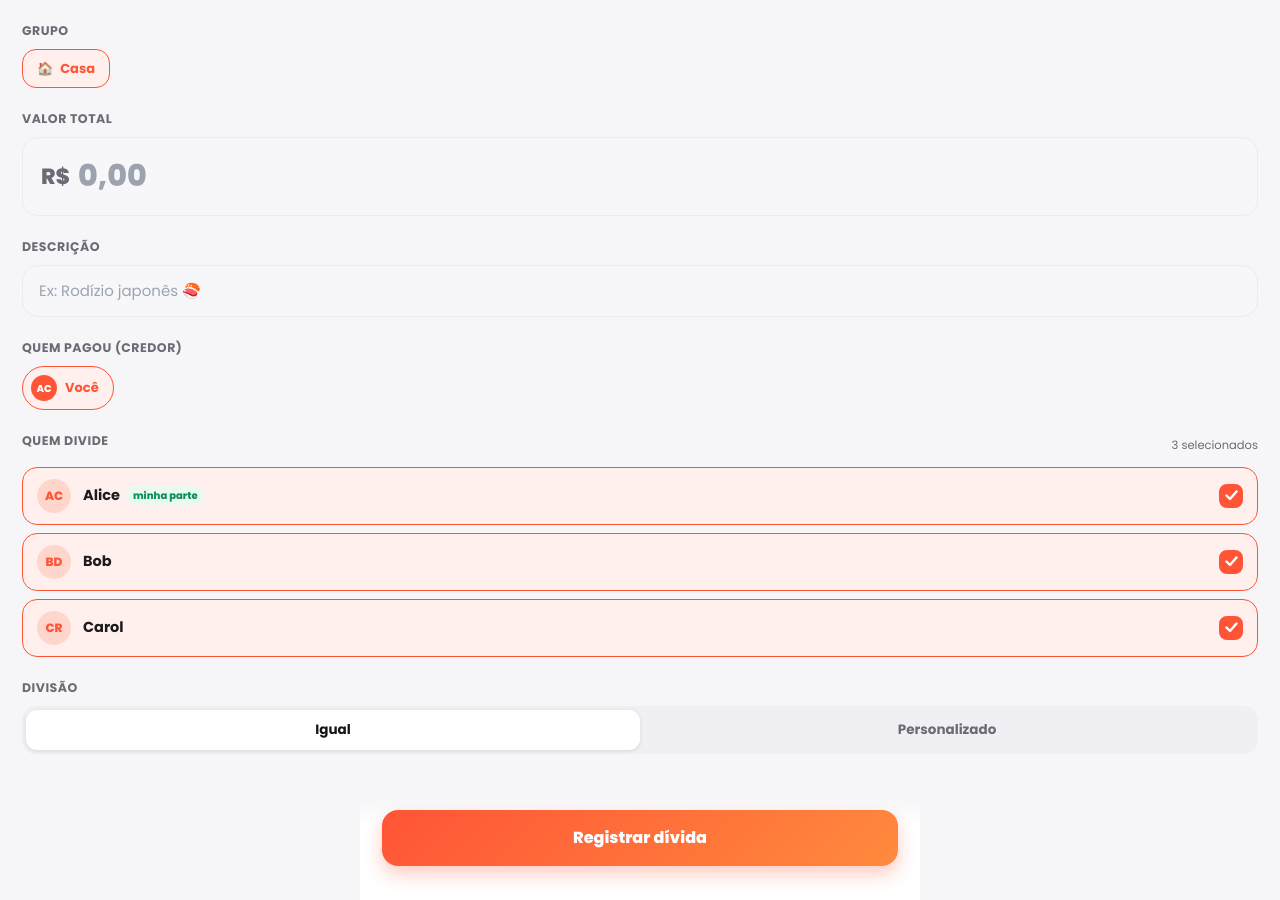
it: DebtForm — divisão no cliente › não permite registrar sem valor
Check: the text "Bob" is shown, box left=83, top=551, right=112, bottom=573
Type "Sem valor" into the field with placeholder "Ex: Rodízio japonês 🍣".
click(640, 291); type("Sem valor")  # box left=22, top=265, right=1258, bottom=317
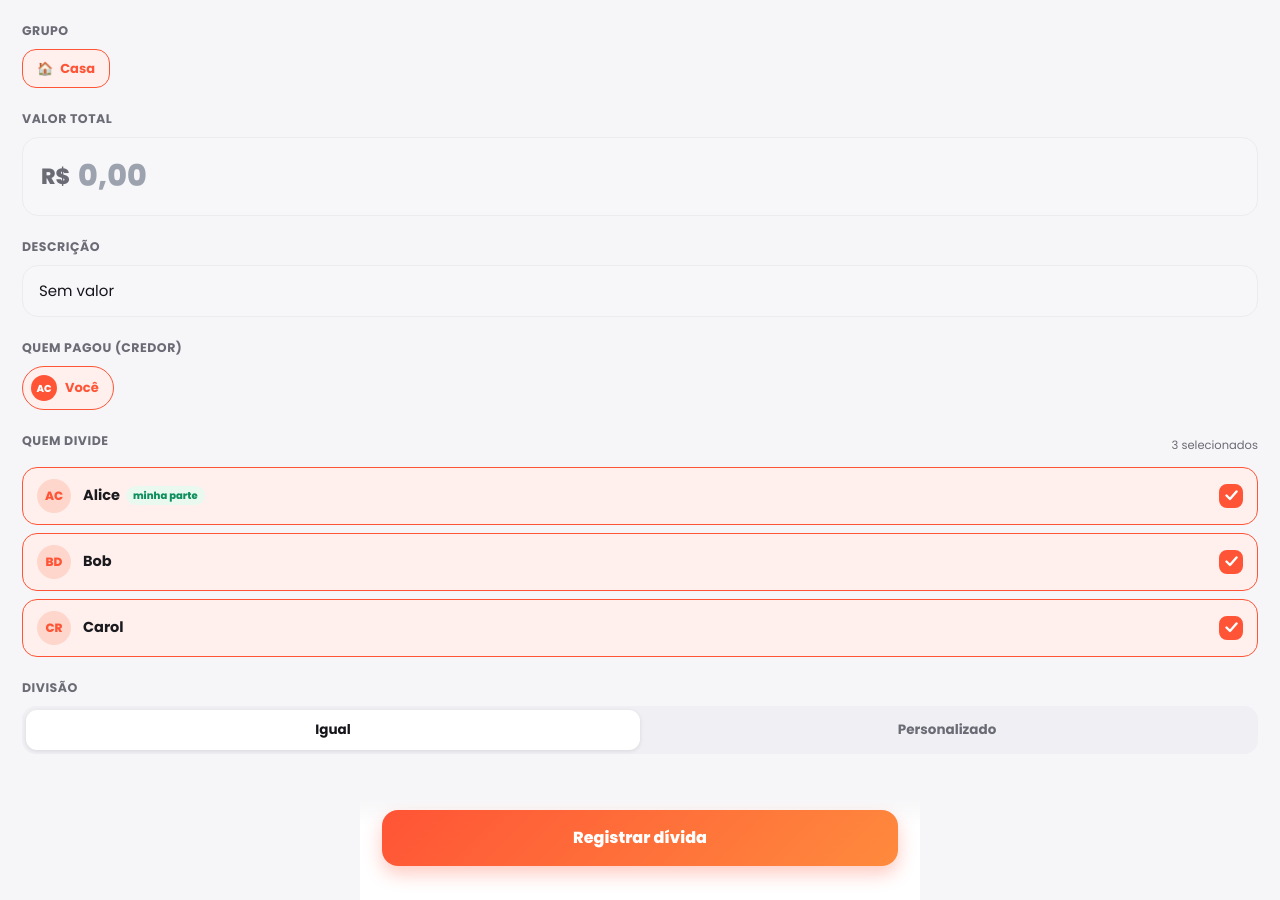
Click the button "Registrar dívida".
click(640, 838)  # box left=382, top=810, right=898, bottom=866
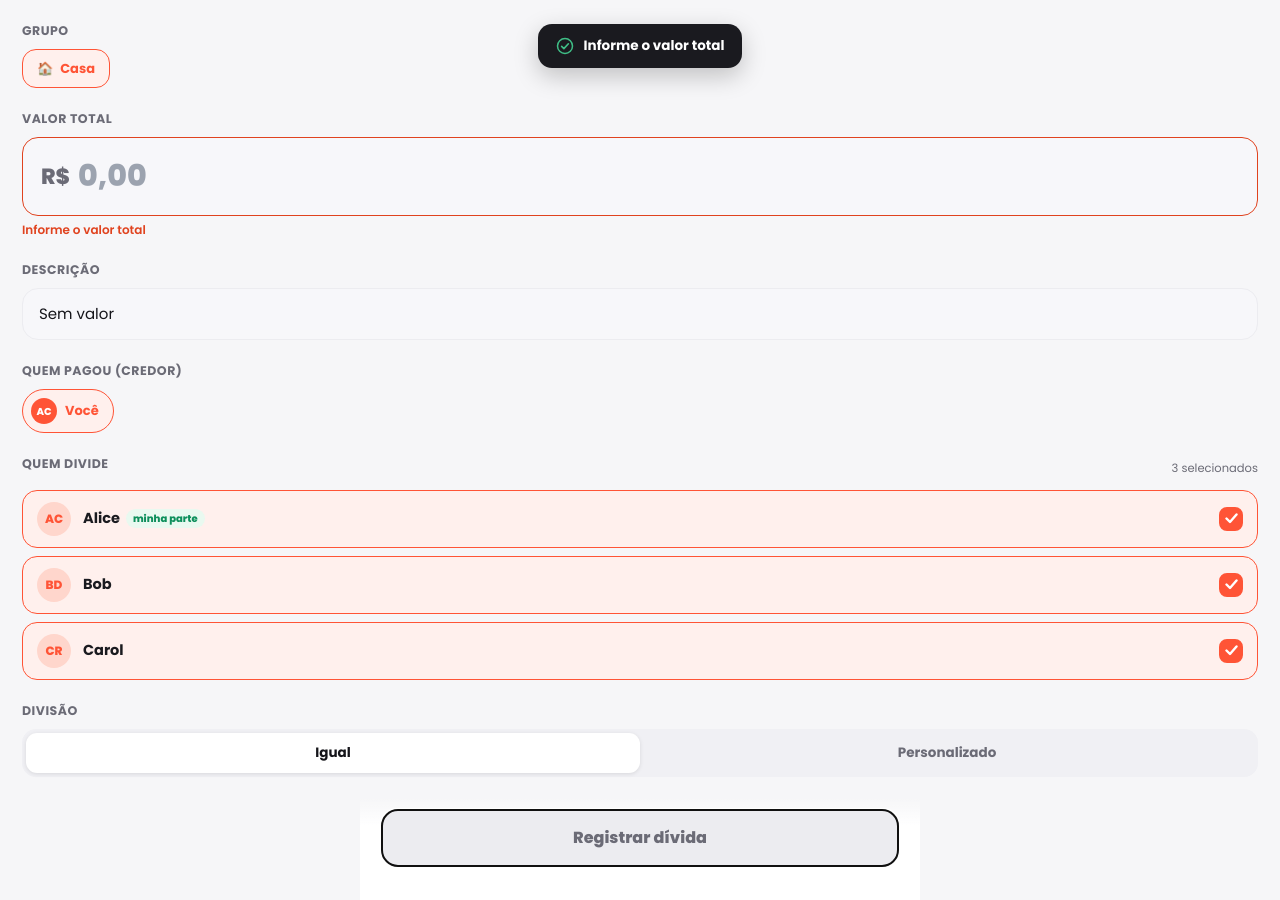
Check: the text "Informe o valor total" is shown, box left=22, top=221, right=146, bottom=238
